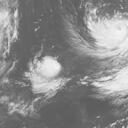cyclone: (68, 5, 126, 60), (26, 56, 67, 96)
